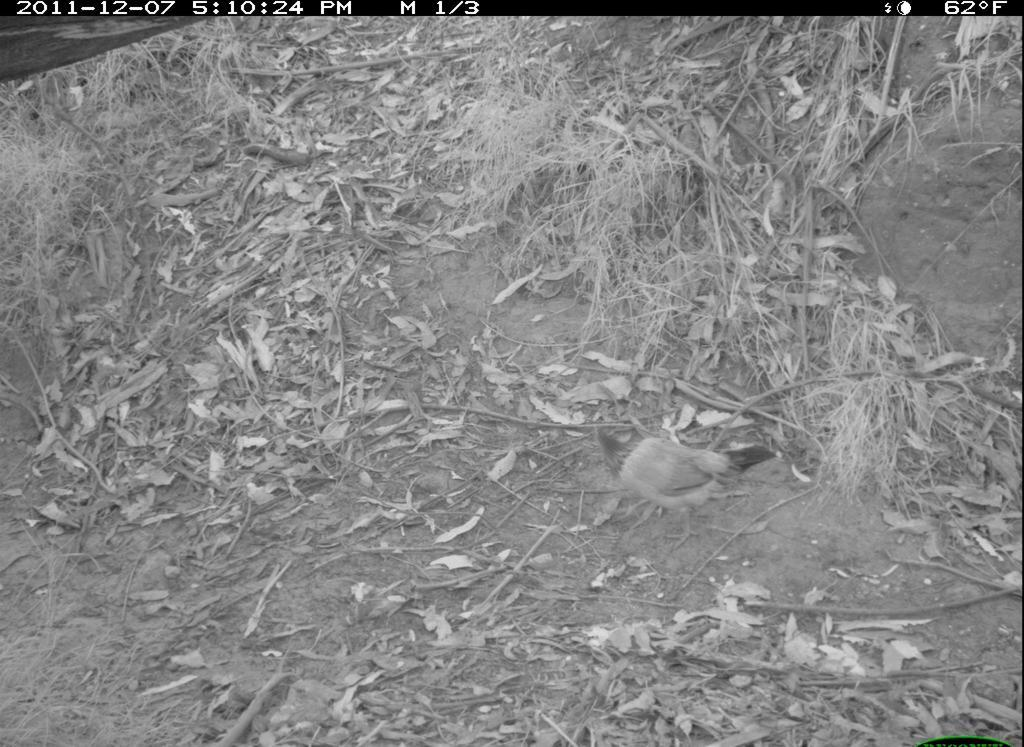bird: (548, 400, 772, 537)
